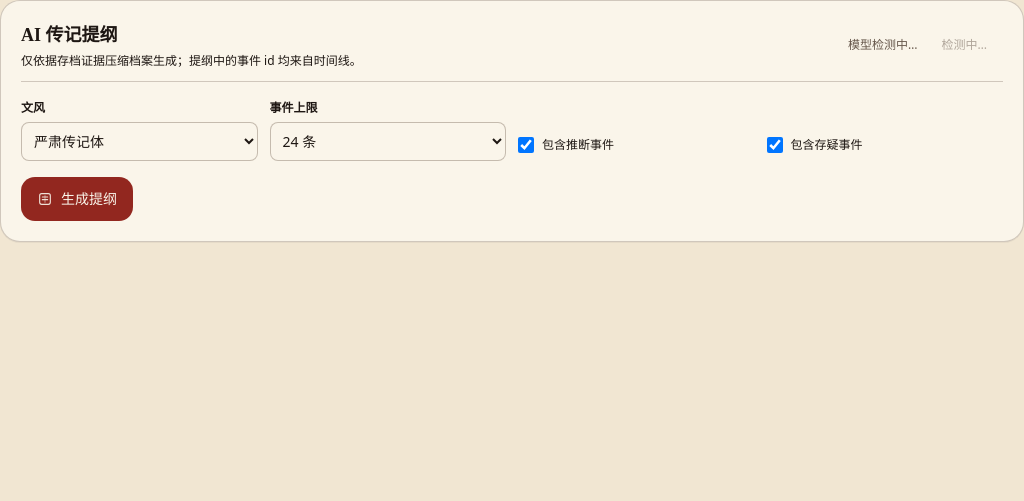
it: OutlinePanel › 点击「生成提纲」→ 携带当前设置 POST → 展示章节
Click the button "生成提纲" at (77, 199), box x1=21 y1=177 x2=133 y2=221
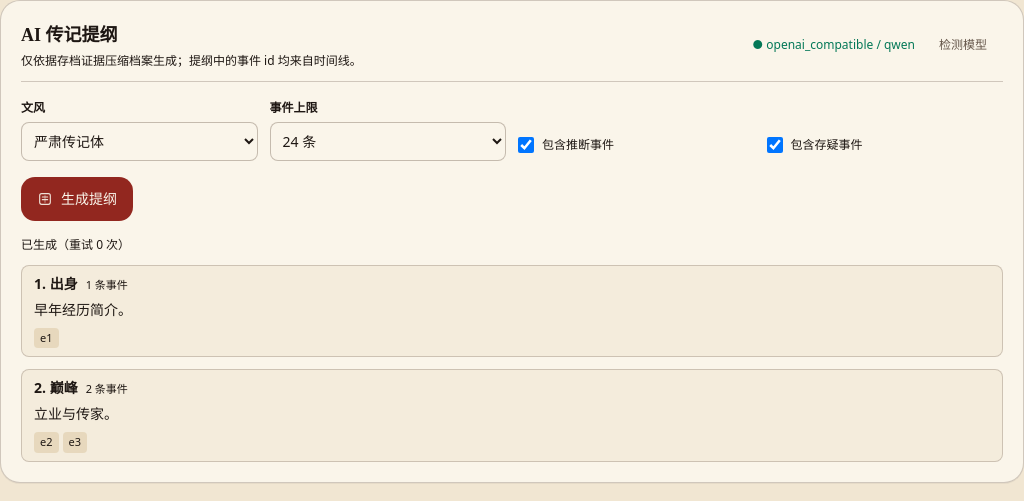
Expected: the text "1. 出身1 条事件" is shown, x1=34 y1=274 x2=128 y2=293
Expected: the text "2. 巅峰2 条事件" is shown, x1=34 y1=378 x2=128 y2=397
Expected: the text "e3" is shown, x1=62 y1=432 x2=87 y2=452
